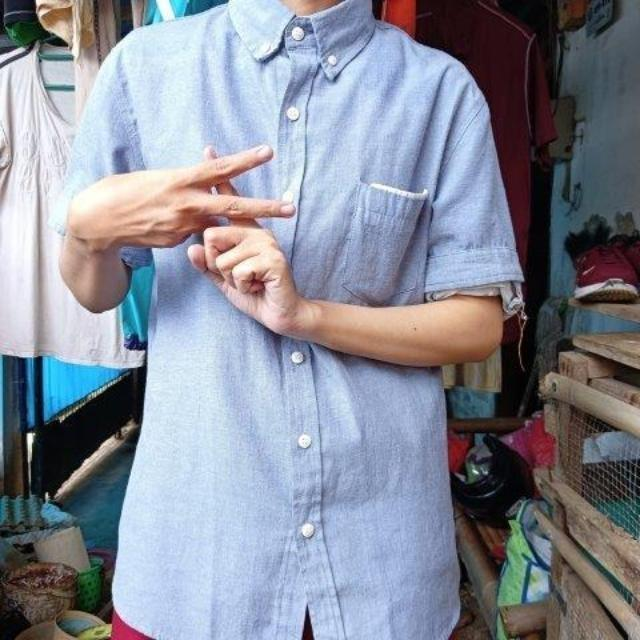F: (152, 141, 305, 344)
